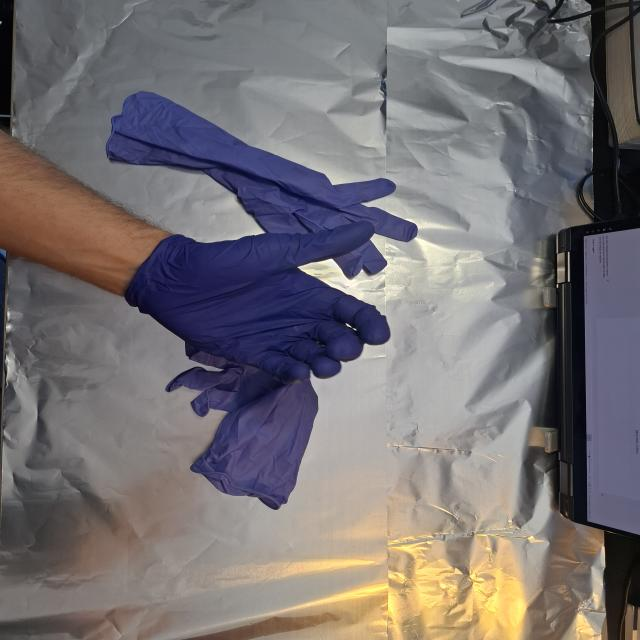glove_on: (124, 218, 393, 386)
